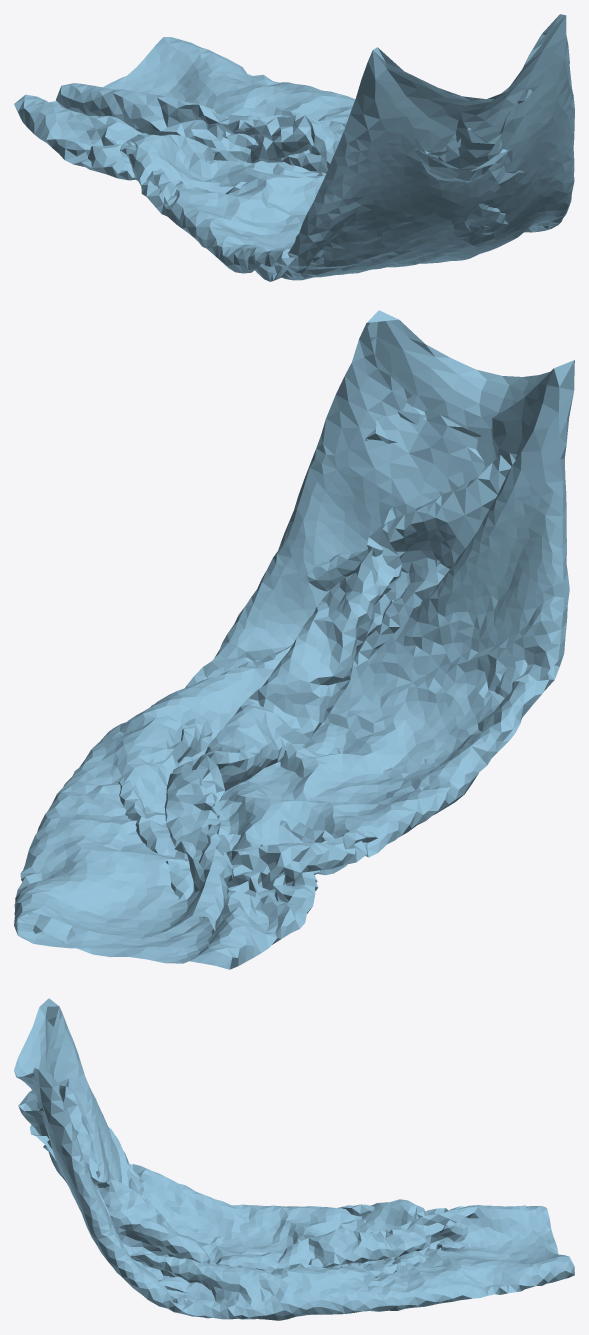
The model's file is frame_05.glb.
The picture shows the model from 3 angles, top to bottom: view 1: azimuth 30°, elevation 25°; view 2: azimuth 150°, elevation 25°; view 3: azimuth 270°, elevation 25°; orthographic projection. The views are drawn at different scales.
Parts seen in each view (by area): view 1: frame_05.obj; view 2: frame_05.obj; view 3: frame_05.obj.
Boxes of the visible parts, x1,y1,x2,y2 form: frame_05.obj: (14,14,574,281); frame_05.obj: (14,310,574,969); frame_05.obj: (14,998,574,1320).
Bounding box in the file's own units: 0.7969 × 0.7874 × 1.72.
